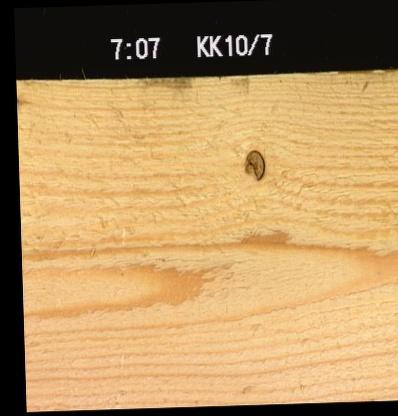dry_knot: (242, 147, 266, 182)
